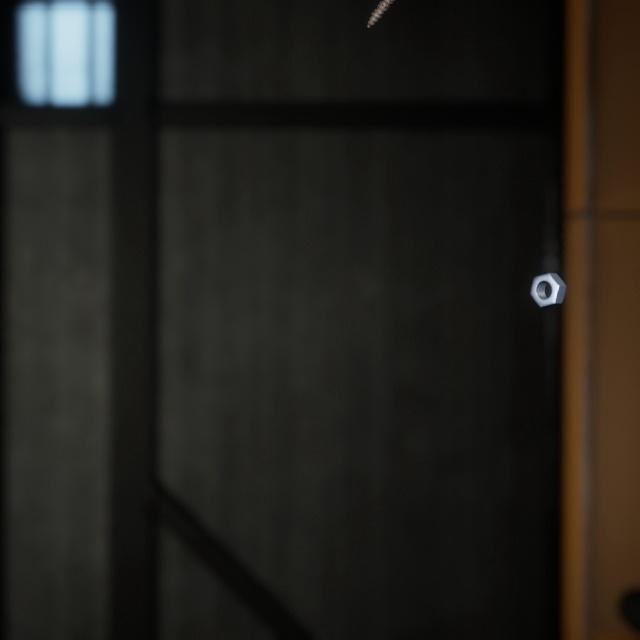bolt: (362, 0, 394, 26)
nut: (525, 251, 570, 294)
